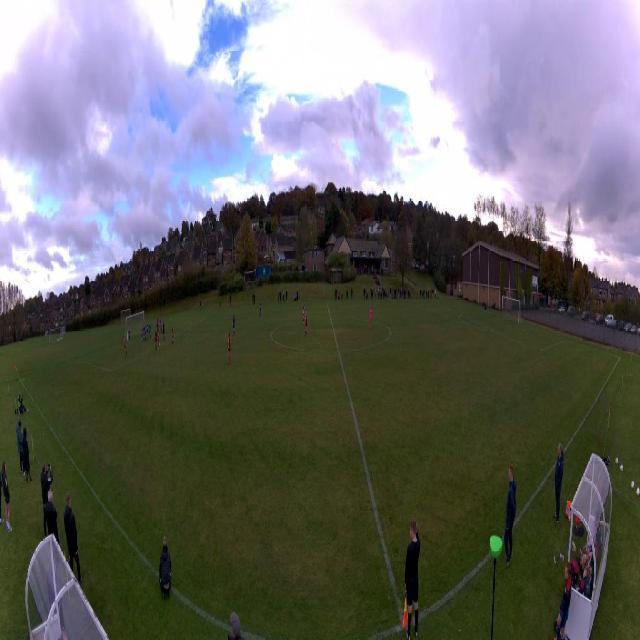ball: (159, 344, 160, 346)
player: (226, 333, 232, 364), (304, 312, 308, 336), (368, 307, 372, 328), (124, 336, 128, 356), (302, 304, 306, 323), (171, 325, 174, 347), (232, 315, 235, 337), (162, 321, 165, 342), (155, 330, 158, 350), (157, 330, 160, 350), (146, 324, 149, 341), (144, 325, 147, 342), (259, 301, 262, 317), (160, 317, 163, 332), (157, 317, 160, 331), (143, 325, 145, 343), (149, 324, 151, 341), (142, 326, 144, 343), (157, 316, 159, 331), (128, 324, 130, 339)
